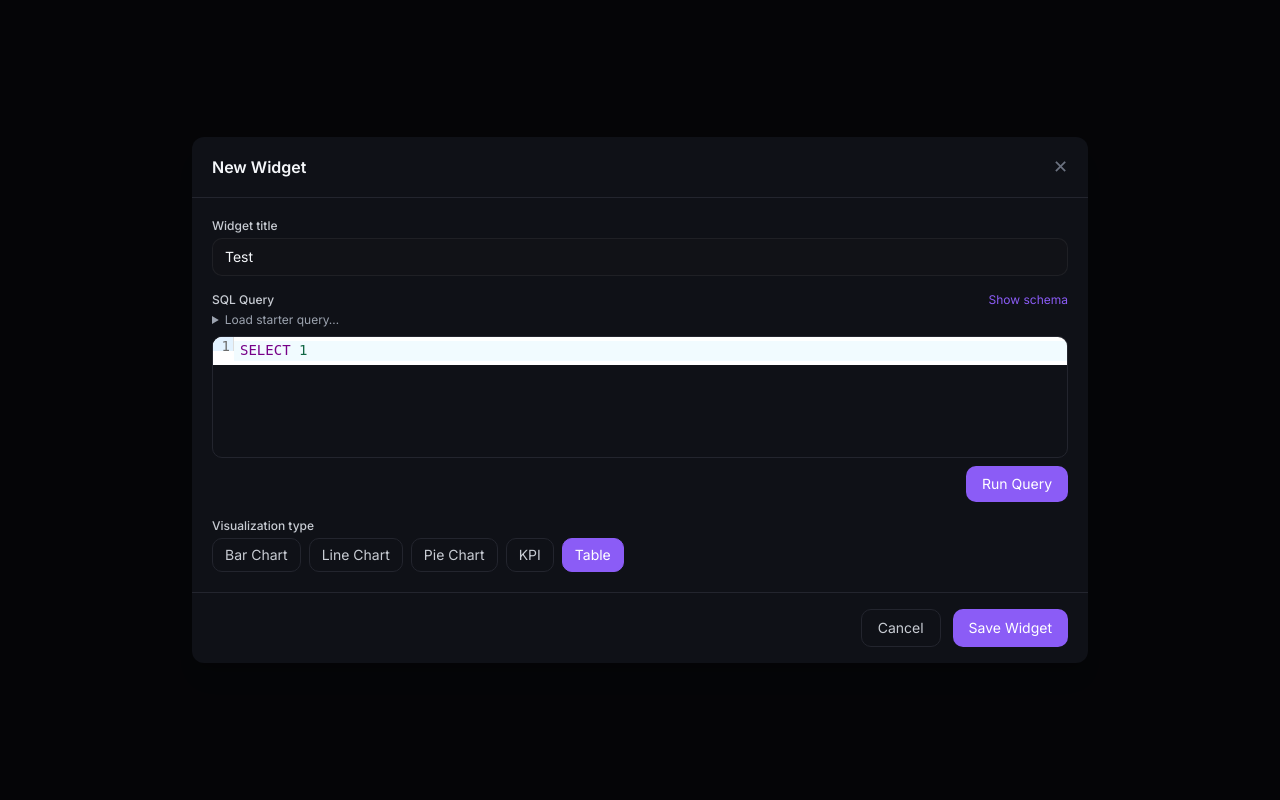
WidgetEditor › handles preview failure with JSON error
What coordinates should you click on to do the following:
click the button "Run Query"
I would click on:
 (1017, 484)
Its box is [966,466,1068,502].
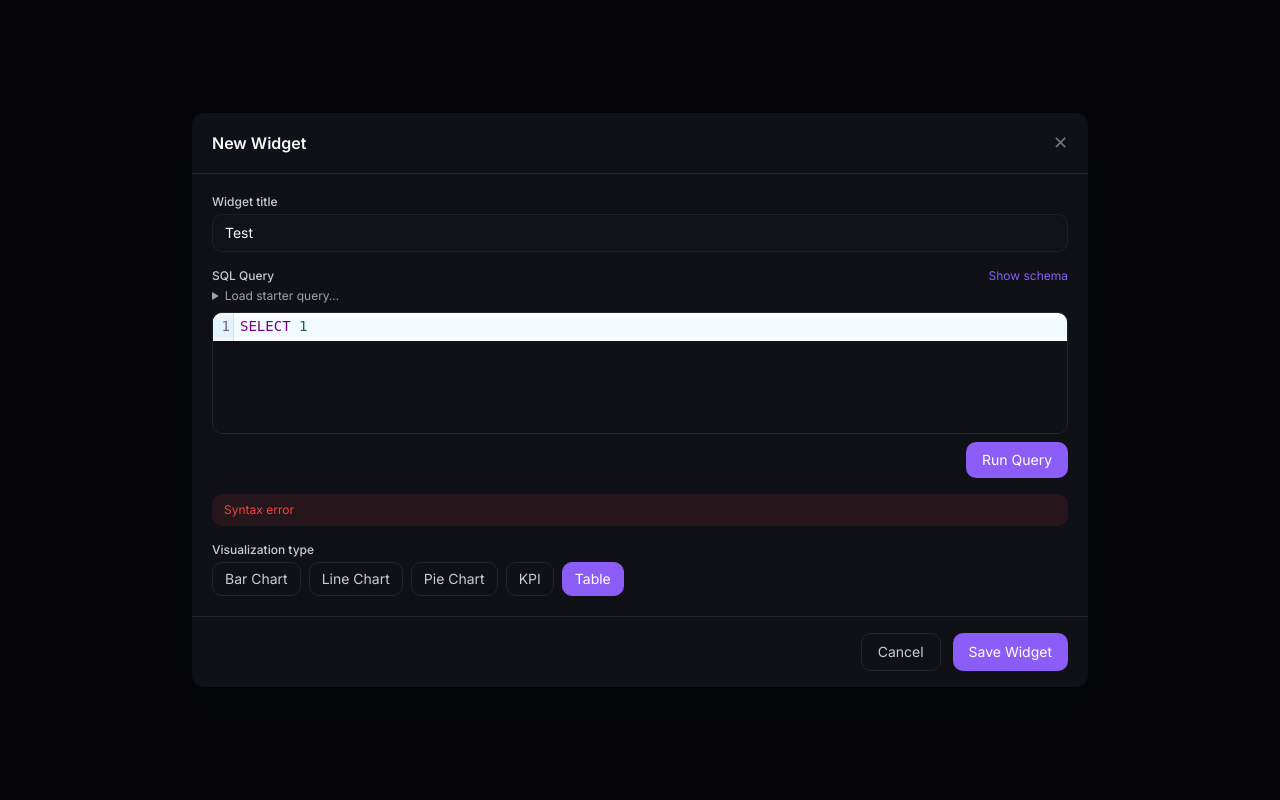
Now the text "Syntax error" is shown, box [212,494,1068,526]
